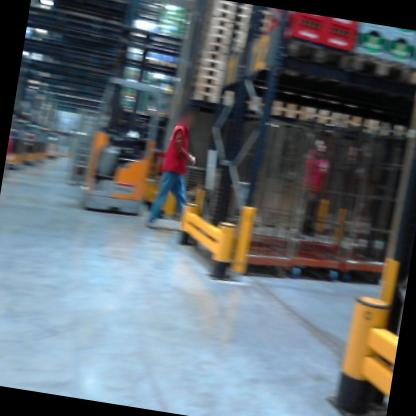forklift: (70, 20, 180, 225), (5, 92, 33, 174), (20, 119, 44, 165)
